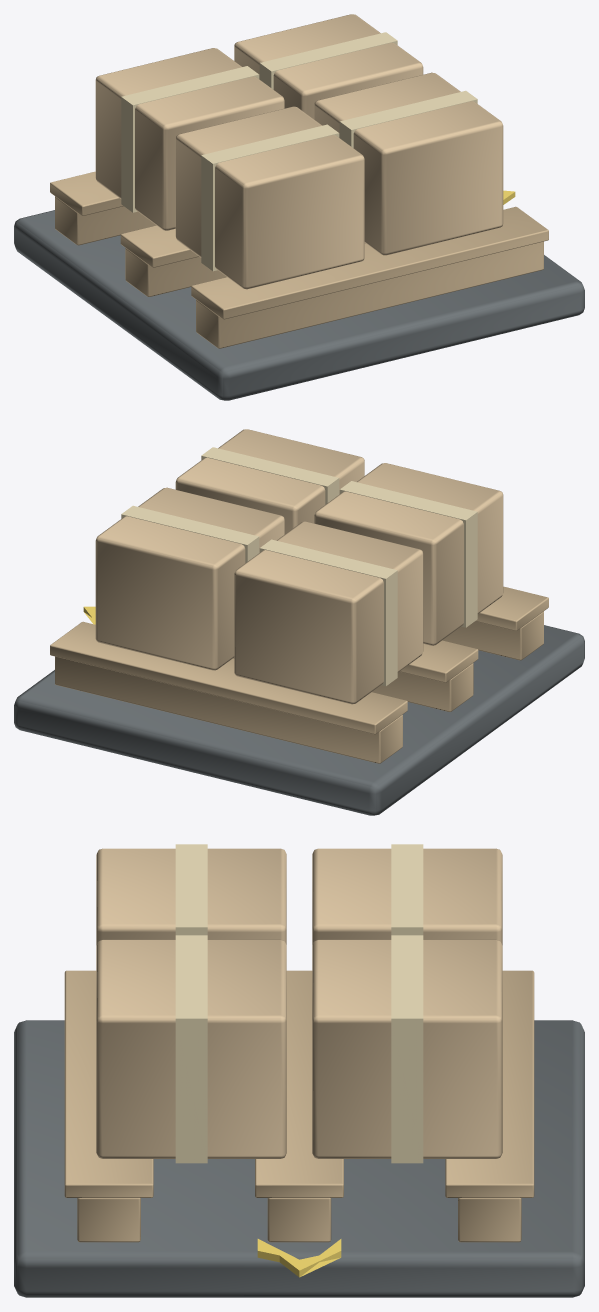
File: muelle_carga.glb
3 renders of one model, top to bottom at view 1: azimuth 30°, elevation 25°; view 2: azimuth 150°, elevation 25°; view 3: azimuth 270°, elevation 25°, orthographic. The views are drawn at different scales.
Parts seen in each view (by area): view 1: bascula, caja0, caja1, caja2, palet_taco0, palet_tabla0, caja3, caja0_cinta, caja2_cinta, palet_taco2, palet_taco1, palet_tabla1 (+3 smaller); view 2: bascula, caja2, caja3, caja0, palet_taco2, palet_tabla2, caja1, caja0_cinta, caja2_cinta, palet_taco0, palet_taco1, palet_tabla1 (+3 smaller); view 3: bascula, caja1, caja3, caja0, caja2, palet_tabla0, palet_tabla2, palet_tabla1, caja1_cinta, caja3_cinta, caja0_cinta, caja2_cinta (+4 smaller).
Part boxes in pixels (x1,y1,x2,y2): bascula: (14, 210, 584, 400); caja0: (175, 106, 364, 289); caja1: (314, 72, 503, 255); caja2: (95, 48, 284, 230); palet_taco0: (196, 241, 543, 348); palet_tabla0: (191, 206, 548, 319); caja3: (234, 14, 423, 119); caja0_cinta: (201, 124, 339, 271); caja2_cinta: (121, 66, 259, 212); palet_taco2: (55, 196, 156, 245); palet_taco1: (125, 243, 365, 296); palet_tabla1: (120, 225, 198, 267); bascula: (14, 625, 584, 815); caja2: (234, 521, 423, 704); caja3: (95, 487, 284, 670); caja0: (314, 463, 503, 645); palet_taco2: (55, 656, 402, 763); palet_tabla2: (50, 621, 407, 734); caja1: (175, 429, 364, 534); caja0_cinta: (339, 481, 477, 627); caja2_cinta: (259, 539, 397, 686); palet_taco0: (442, 611, 543, 660); palet_taco1: (233, 658, 473, 711); palet_tabla1: (400, 640, 478, 682); bascula: (14, 1020, 584, 1297); caja1: (96, 939, 286, 1158); caja3: (312, 939, 502, 1158); caja0: (96, 848, 286, 945); caja2: (312, 848, 502, 945); palet_tabla0: (64, 970, 153, 1197); palet_tabla2: (445, 970, 534, 1197); palet_tabla1: (255, 970, 343, 1197); caja1_cinta: (175, 935, 207, 1163); caja3_cinta: (391, 935, 423, 1163); caja0_cinta: (175, 844, 207, 935); caja2_cinta: (391, 844, 423, 935).
Size of the model in its own units: 0.98 by 0.436 by 0.9.
